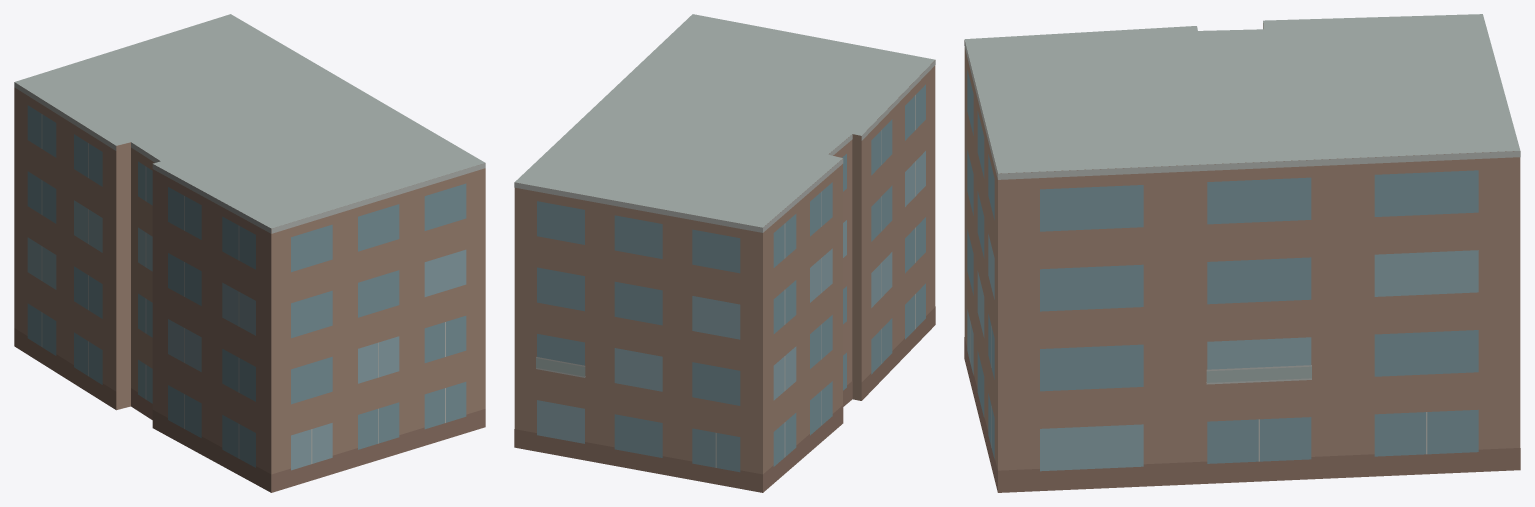
File: survey-upis-32736301.glb
3 views of the same model, side by side, from view 1: azimuth 30°, elevation 25°; view 2: azimuth 150°, elevation 25°; view 3: azimuth 270°, elevation 25° (orthographic). The views are drawn at different scales.
Visible parts, largest first — view 1: survey-upis-32736301.tmp; view 2: survey-upis-32736301.tmp; view 3: survey-upis-32736301.tmp.
Boxes of the visible parts, x1,y1,x2,y2 form: survey-upis-32736301.tmp: (14, 14, 485, 492); survey-upis-32736301.tmp: (514, 14, 935, 492); survey-upis-32736301.tmp: (964, 14, 1520, 492).
Size of the model in its own units: 13.08 by 12.2 by 19.26.
